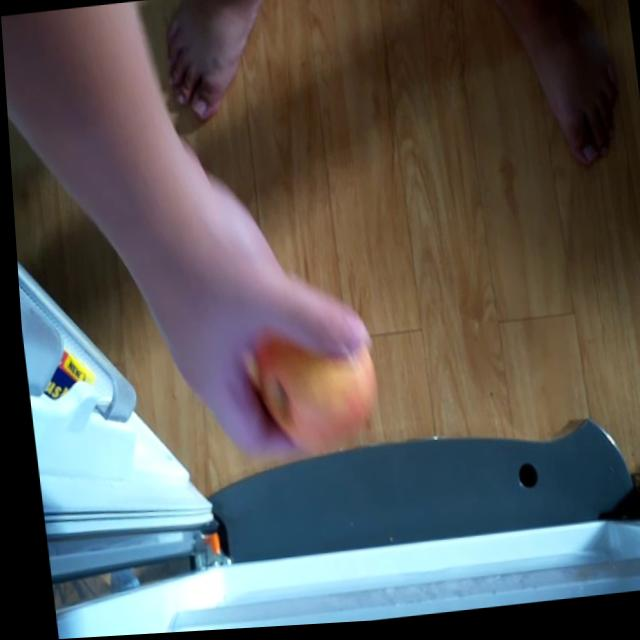apple: (244, 331, 377, 464)
